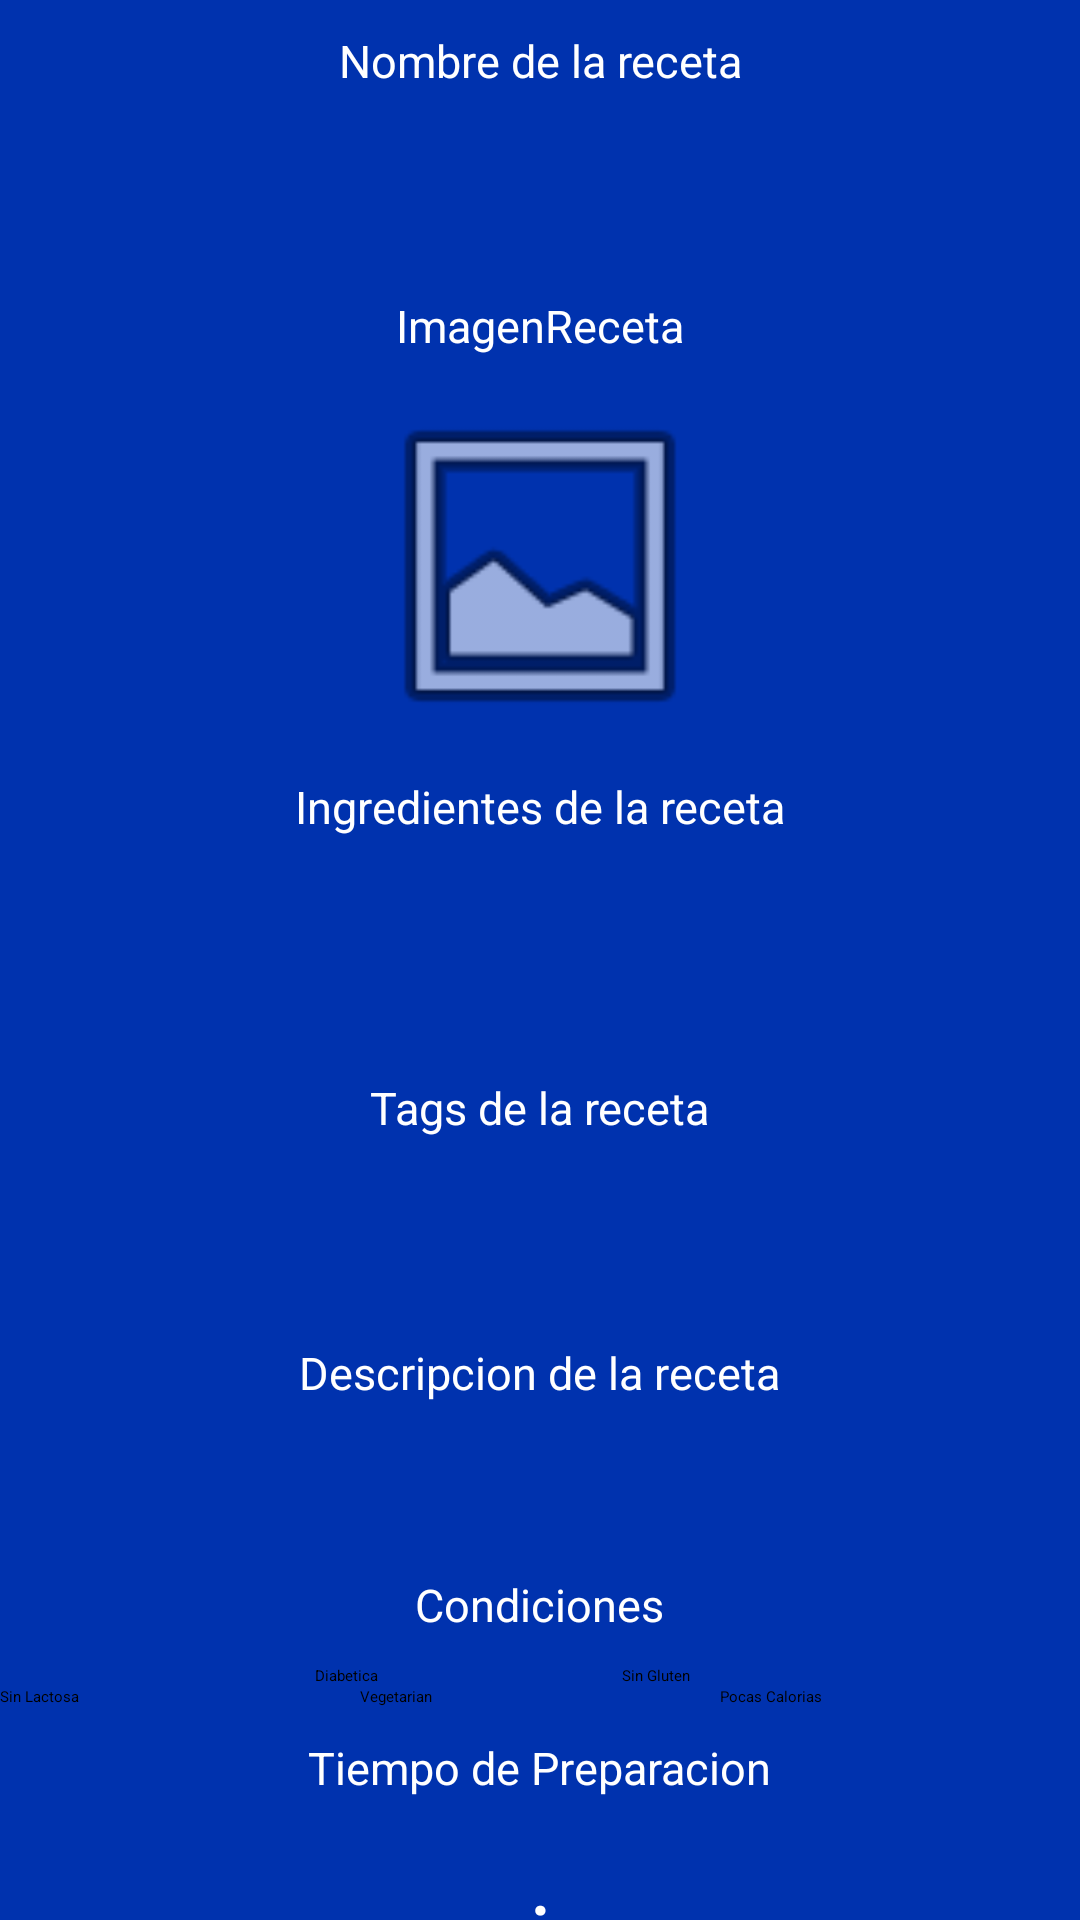

Named icons in this screenshot (1080*1920) and their bounding boxes, region(x1, y1, x2, y2):
gallery: region(405, 430, 675, 702)
